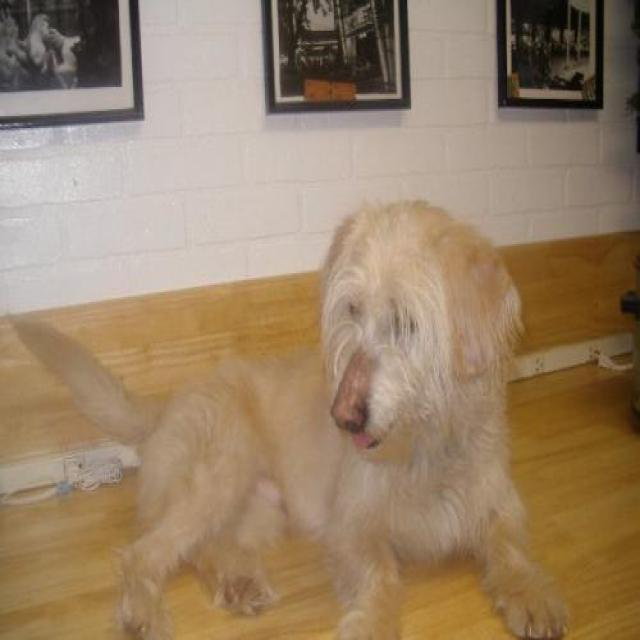Dogs: (11, 195, 571, 638)
